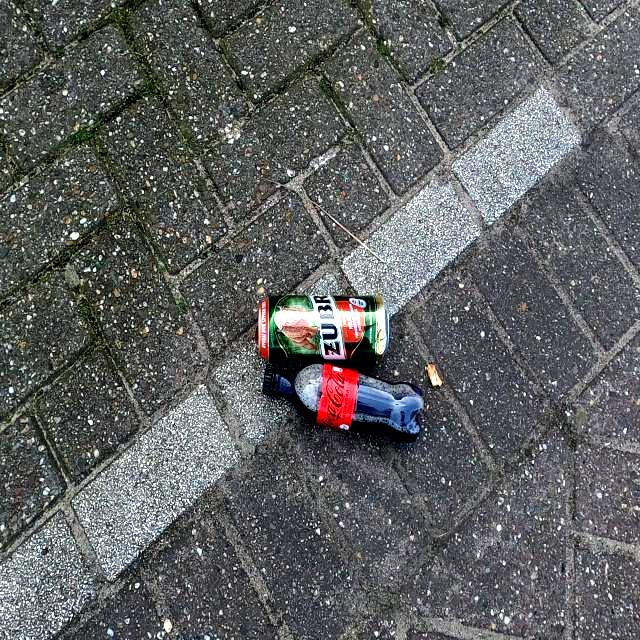Metal: (254, 292, 391, 363)
